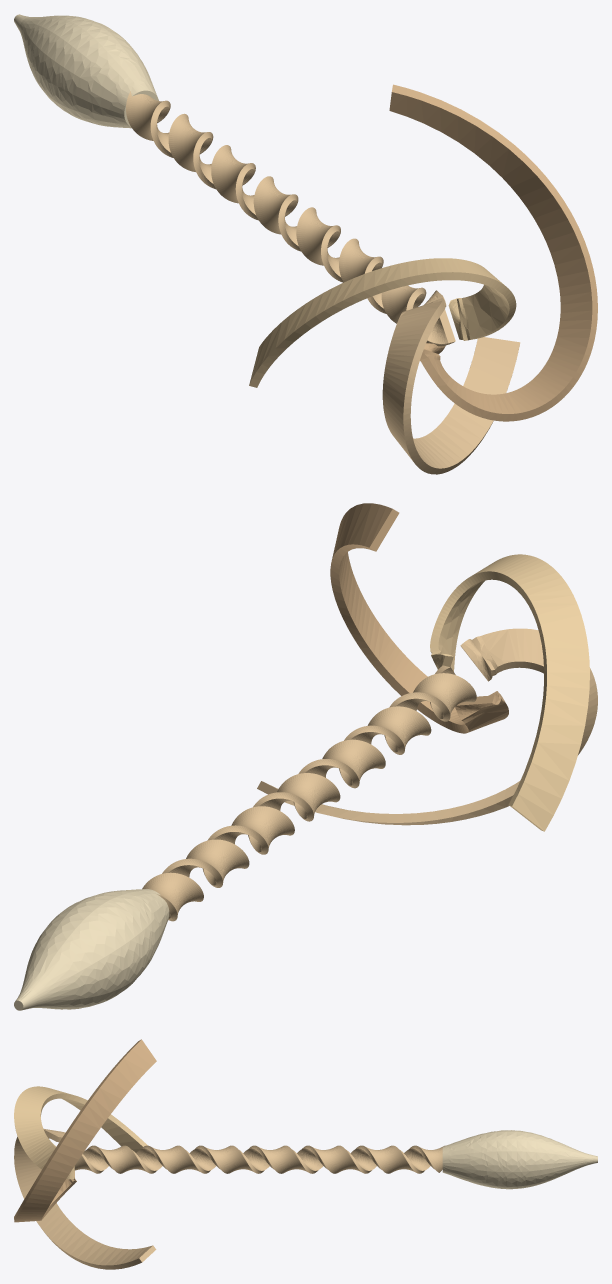
Rendered from finished_carrier.glb.
3 views of the same model, one above another, from view 1: azimuth 30°, elevation 25°; view 2: azimuth 150°, elevation 25°; view 3: azimuth 270°, elevation 25° (orthographic). The views are drawn at different scales.
Visible parts, largest first — view 1: tail3, body, tail2, tip, tail1; view 2: tail1, body, tip, tail3, tail2; view 3: body, tip, tail3, tail2, tail1.
Boxes of the visible parts, left/top/right/bottom form: tail3: left=389, top=84, right=597, bottom=421; body: left=126, top=91, right=455, bottom=346; tail2: left=382, top=290, right=520, bottom=474; tip: left=14, top=14, right=158, bottom=128; tail1: left=249, top=258, right=516, bottom=387; tail1: left=430, top=554, right=589, bottom=831; body: left=142, top=665, right=476, bottom=921; tip: left=14, top=889, right=169, bottom=1010; tail3: left=330, top=503, right=508, bottom=733; tail2: left=257, top=628, right=597, bottom=825; body: left=74, top=1145, right=445, bottom=1173; tip: left=442, top=1130, right=597, bottom=1189; tail3: left=14, top=1039, right=156, bottom=1222; tail2: left=14, top=1128, right=156, bottom=1269; tail1: left=14, top=1086, right=147, bottom=1179.
Bounding box in the file's own units: 18.67 × 22.02 × 54.48.
